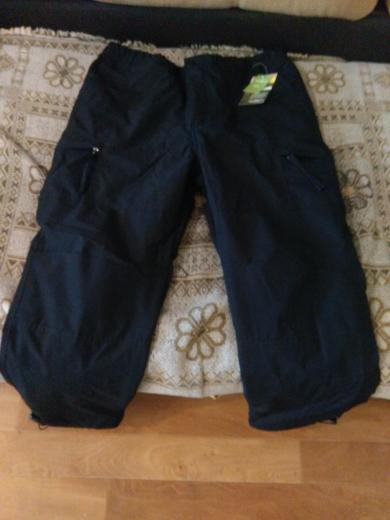pants: (14, 41, 371, 428)
